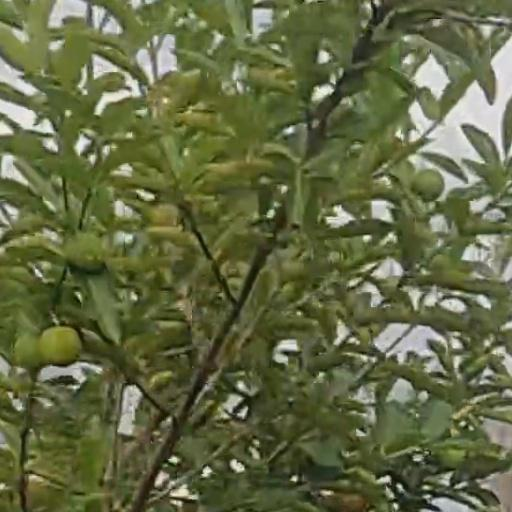acerola_verde: (44, 327, 79, 365), (16, 332, 40, 365), (415, 172, 442, 200)
